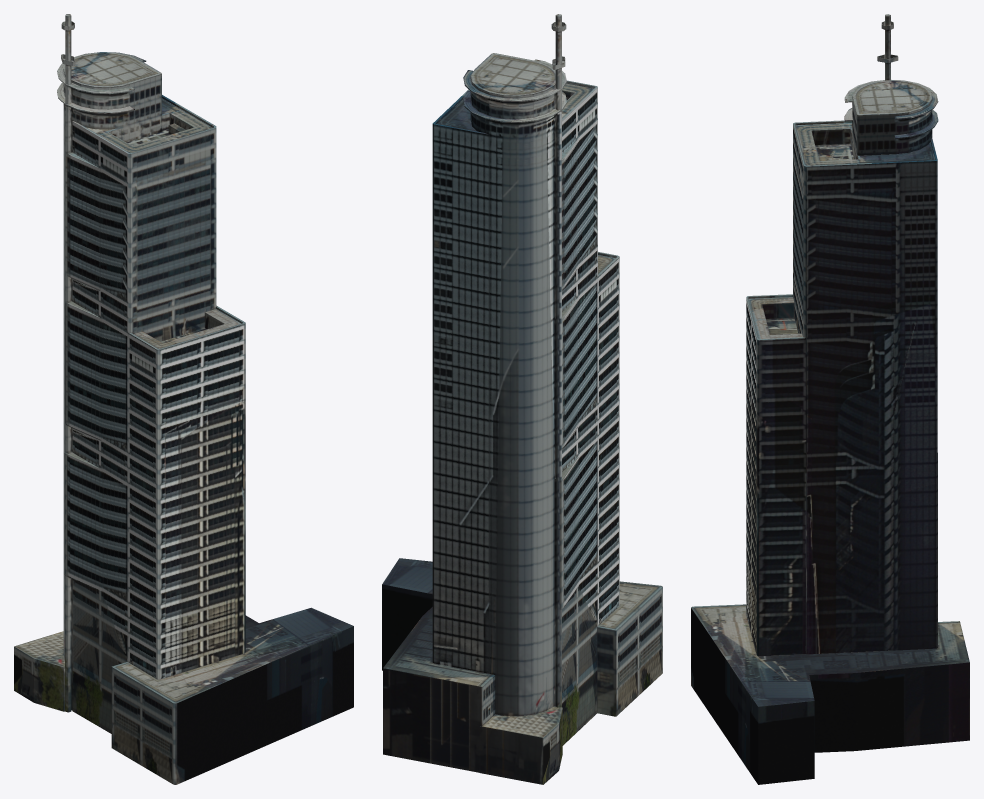
3 views of the same model, side by side, from view 1: azimuth 30°, elevation 25°; view 2: azimuth 150°, elevation 25°; view 3: azimuth 270°, elevation 25° (orthographic). The views are drawn at different scales.
Parts seen in each view (by area): view 1: 19_0.glb; view 2: 19_0.glb; view 3: 19_0.glb.
Boxes of the visible parts, <box> form: 19_0.glb: <box>14,14,353,784</box>; 19_0.glb: <box>382,14,662,784</box>; 19_0.glb: <box>691,14,969,784</box>.
Bounding box in the file's own units: 63.2 × 177 × 66.91.
3 materials, 2 textured.
